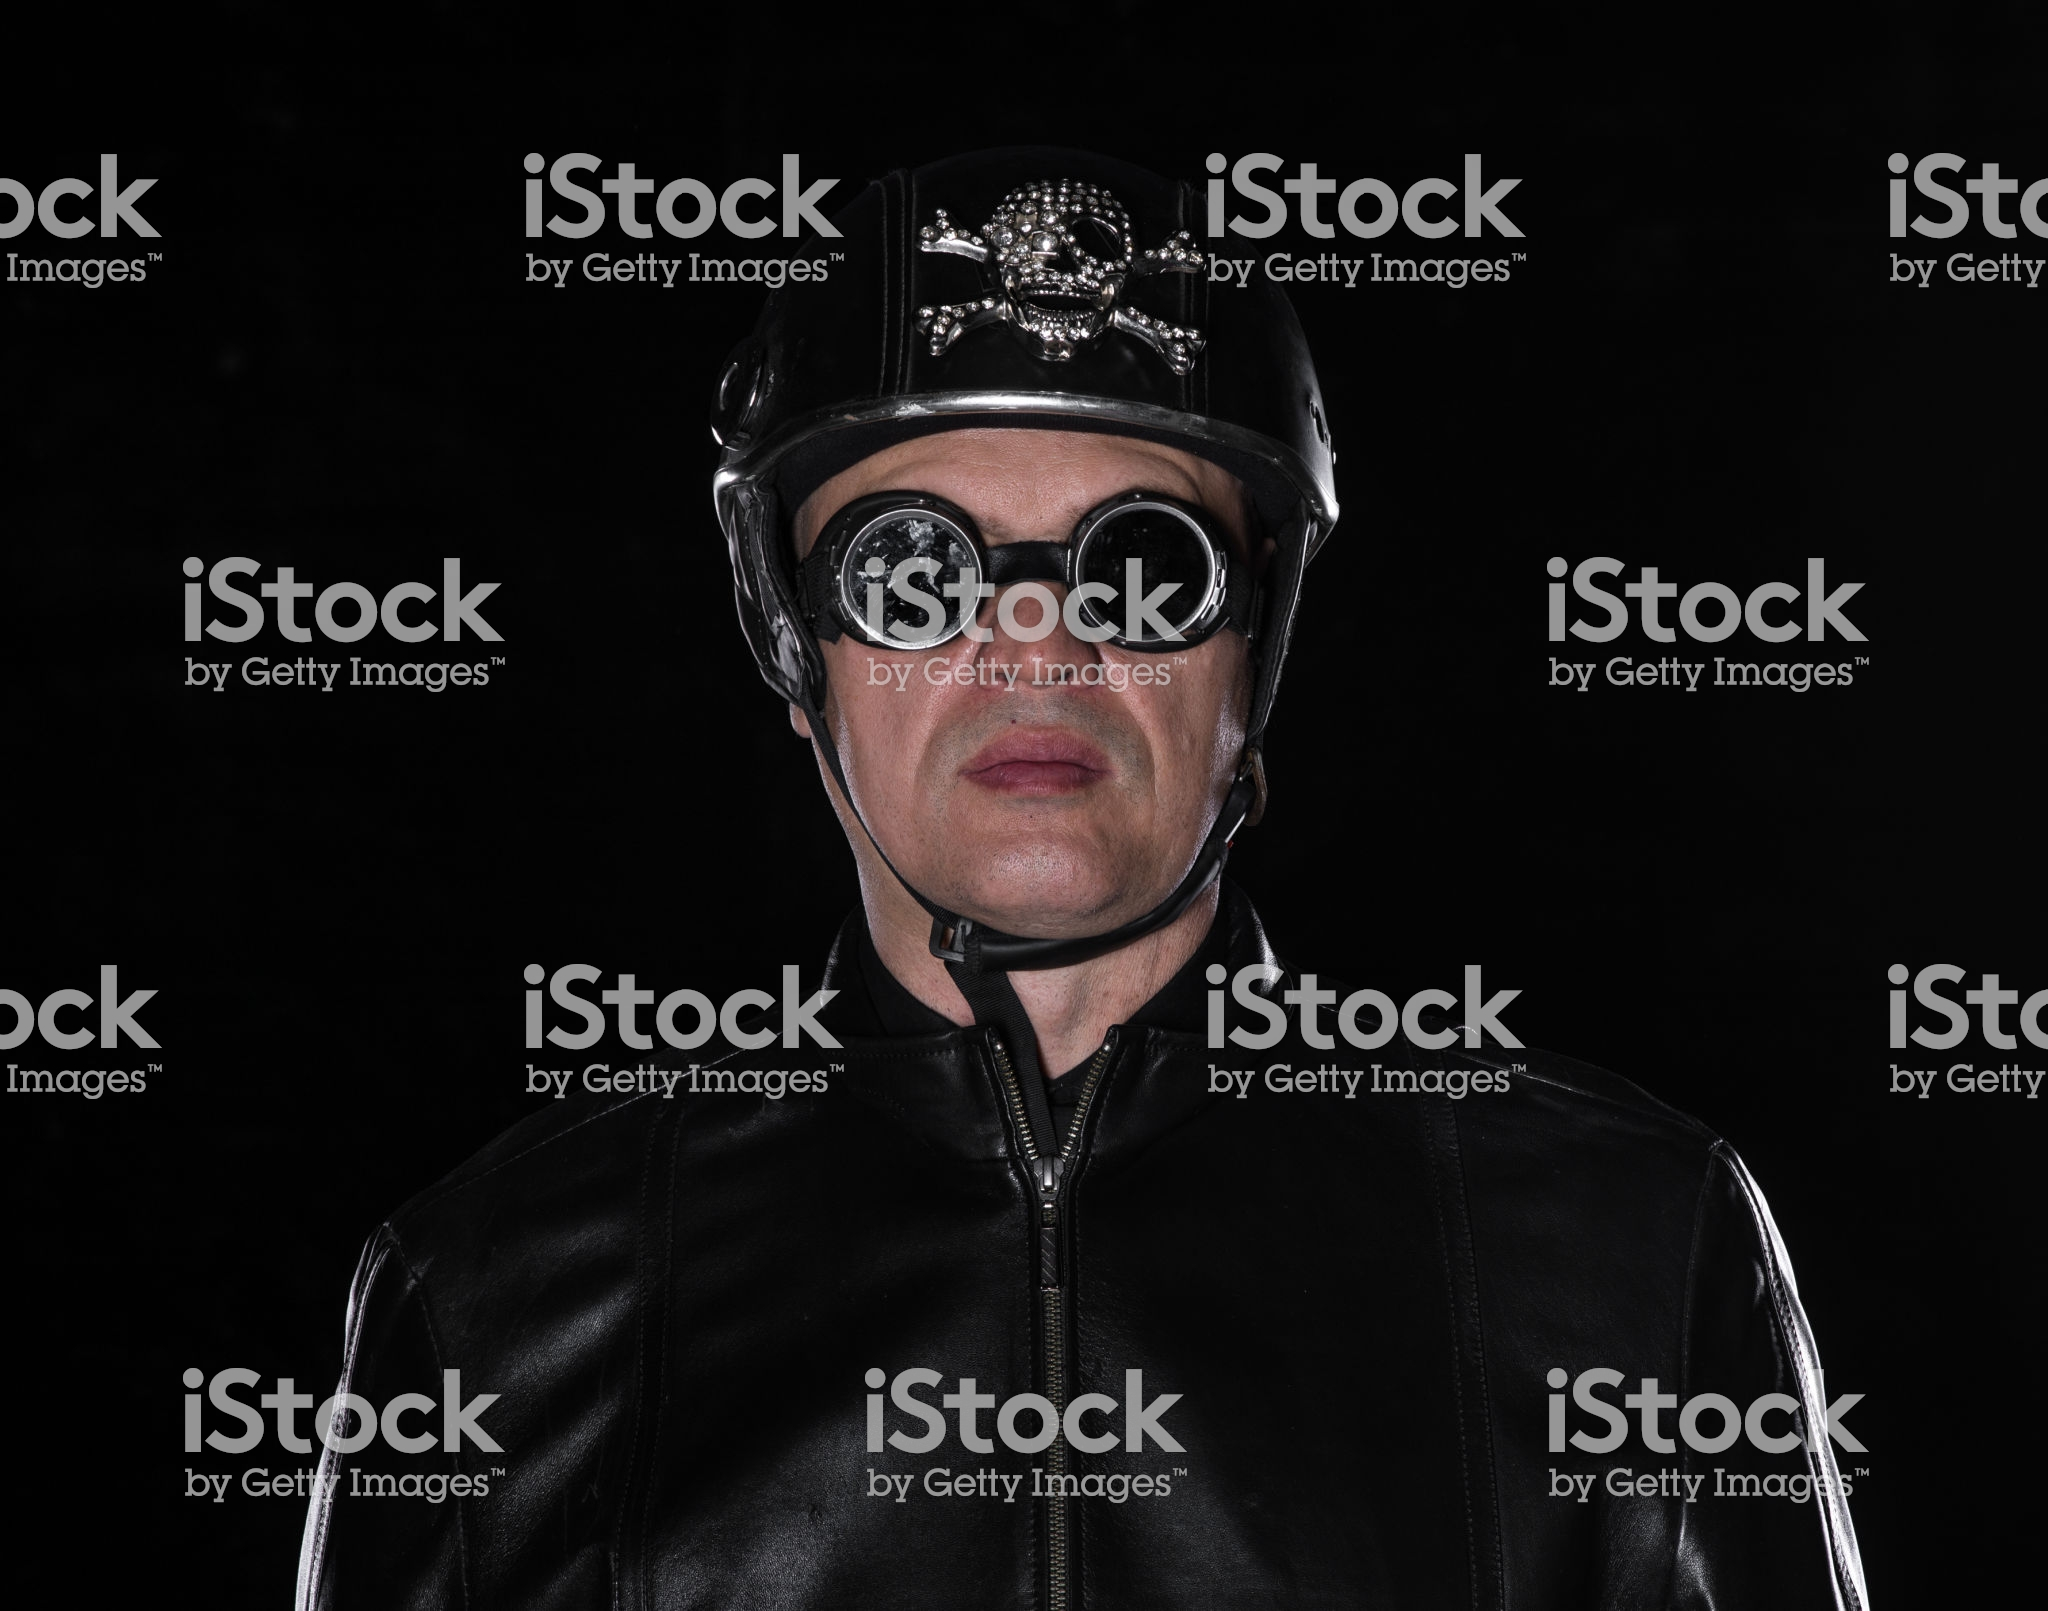helmet: (683, 171, 1317, 703)
